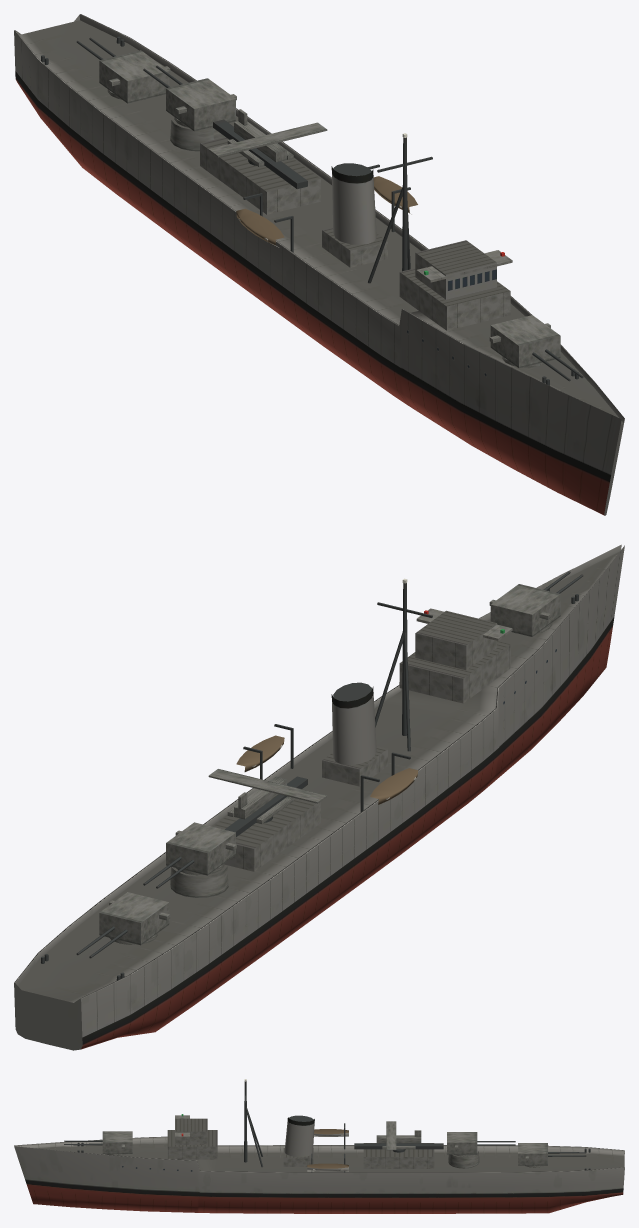
The model's file is escort.glb.
The picture shows the model from 3 angles, top to bottom: view 1: azimuth 30°, elevation 25°; view 2: azimuth 150°, elevation 25°; view 3: azimuth 270°, elevation 25°; orthographic projection. The views are drawn at different scales.
Parts seen in each view (by area): view 1: hull, turret_1, turret_2, turret_3, boat_right; view 2: hull, turret_3, turret_2, turret_1, boat_right, boat_left; view 3: hull, turret_1, turret_2, turret_3, boat_left, boat_right.
Boxes of the visible parts, x1,y1,x2,y2 form: hull: (14,14,624,515); turret_1: (489,315,560,368); turret_2: (166,78,236,131); turret_3: (99,50,170,103); boat_right: (236,208,284,247); hull: (14,544,624,1050); turret_3: (99,892,170,945); turret_2: (166,822,236,875); turret_1: (489,584,560,636); boat_right: (370,768,418,804); boat_left: (236,735,284,771); hull: (14,1079,624,1213); turret_1: (102,1131,132,1155); turret_2: (447,1132,477,1156); turret_3: (518,1143,547,1167); boat_left: (307,1163,348,1171); boat_right: (314,1129,348,1136).
Size of the model in its own units: 16.95 by 24.74 by 110.
5 materials, 5 textured.
